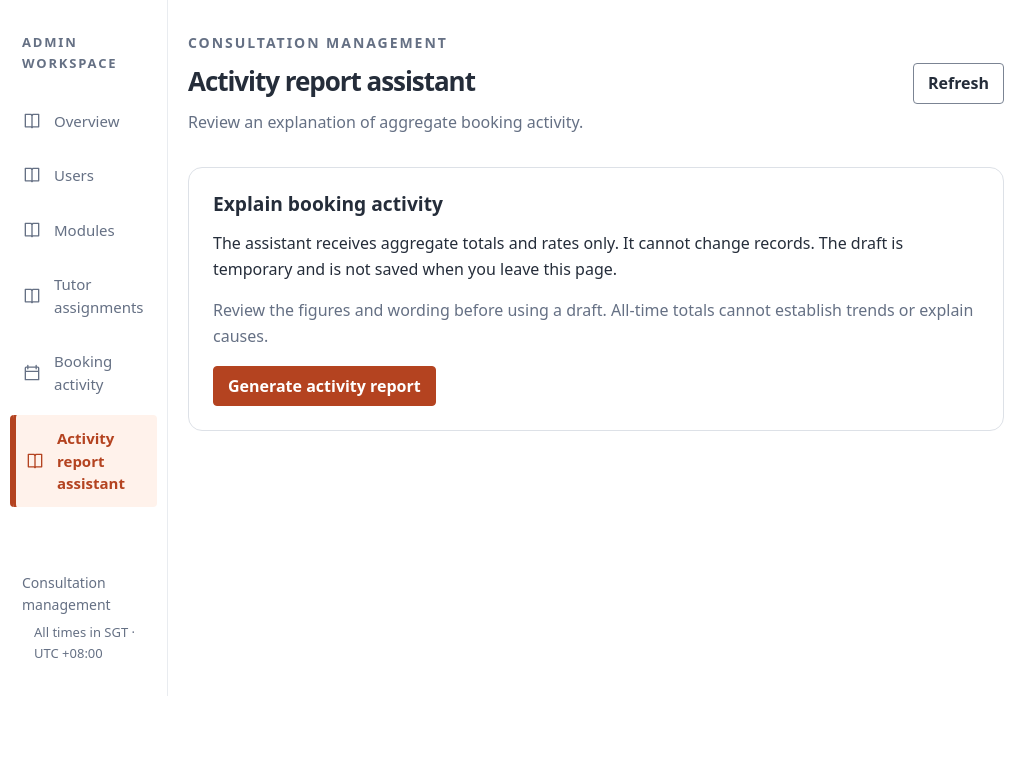
Test: Admin workspace › rejects malformed reports without crashing or displaying an unverified draft
Click the button "Generate activity report".
click(324, 386)  # box [213, 366, 436, 406]
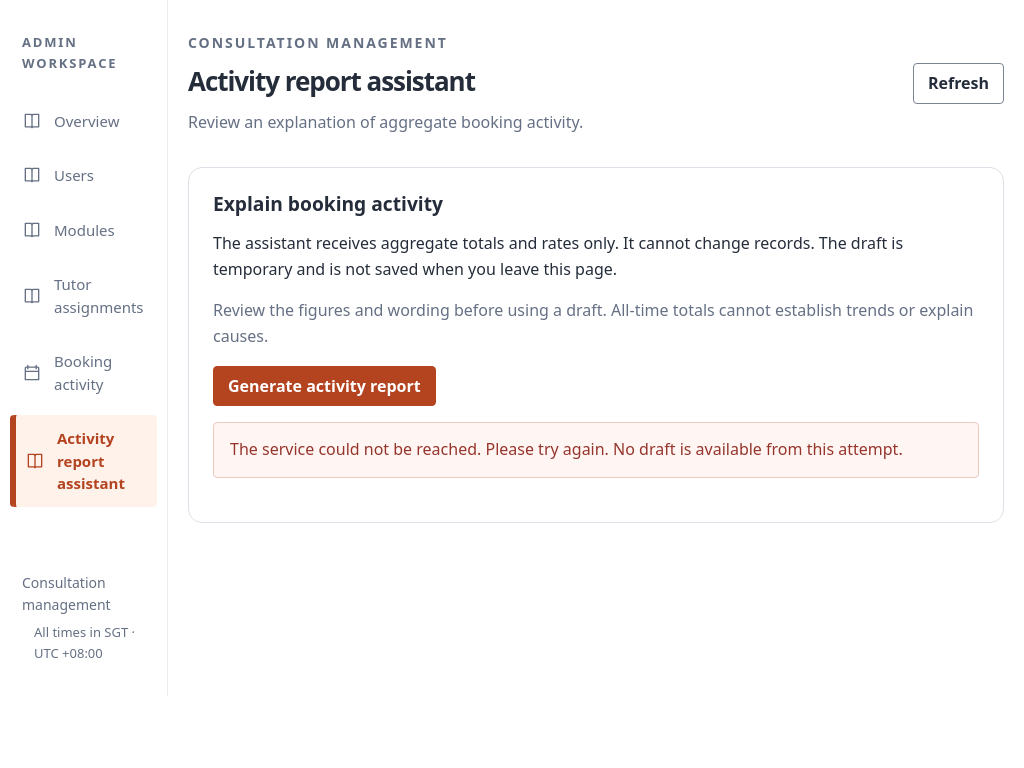
Expected: the message is shown, [213, 422, 979, 478]
